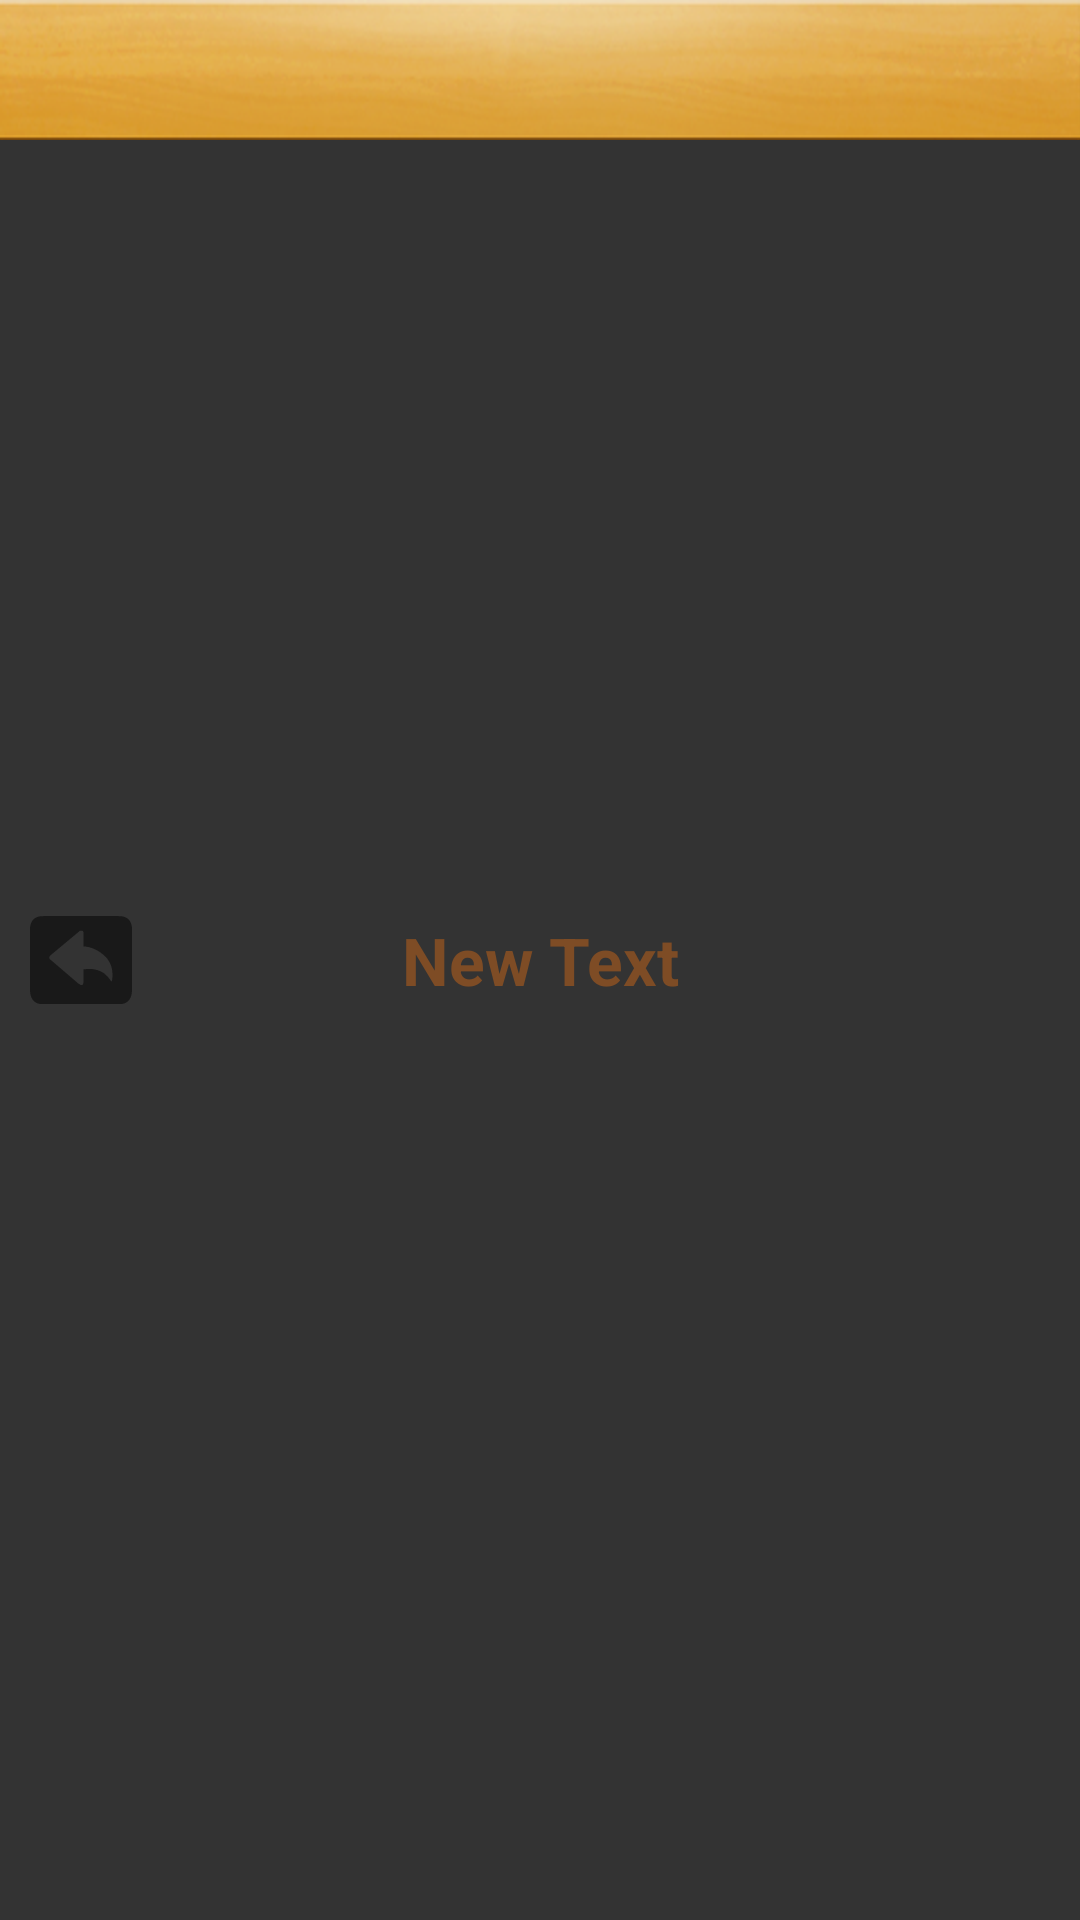

Icons on this 1080px×1920px Android screen, each with the point to tap as (x=x, y=y):
back: (x=81, y=960)
